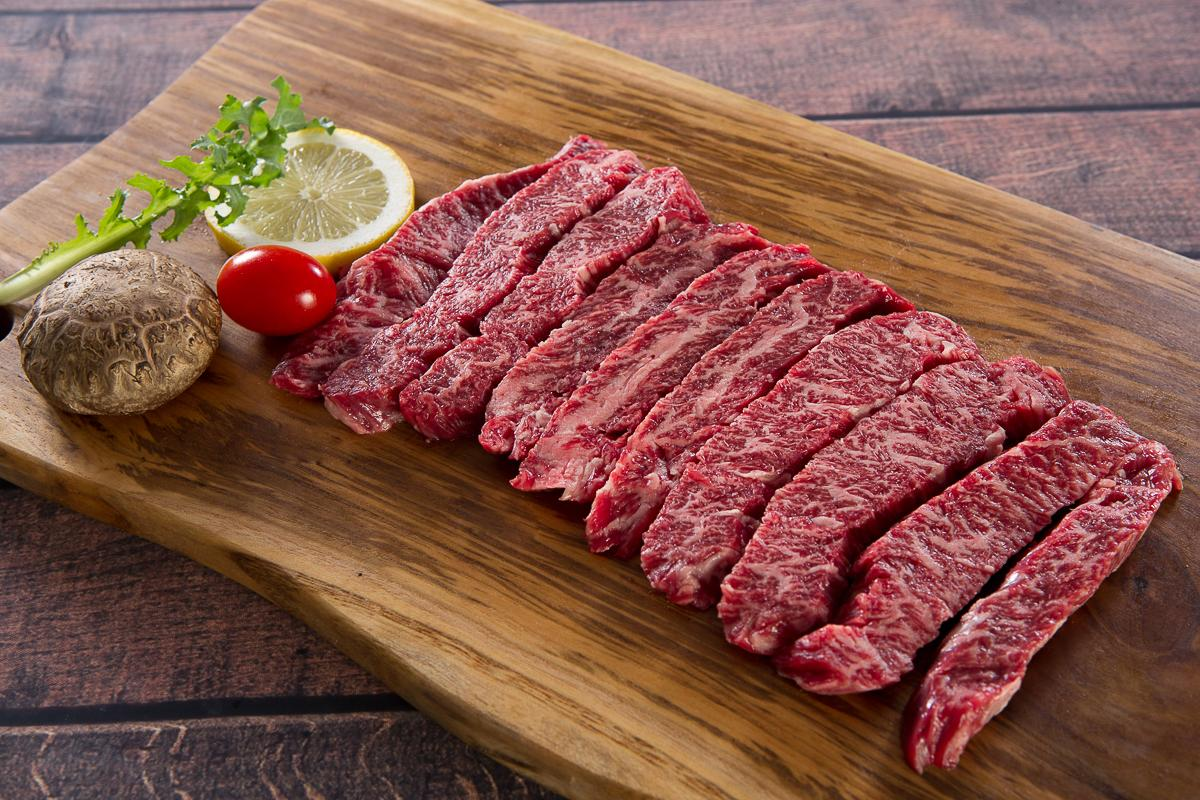beef: (878, 223, 1153, 580), (1027, 320, 1200, 739), (1006, 486, 1200, 800)
